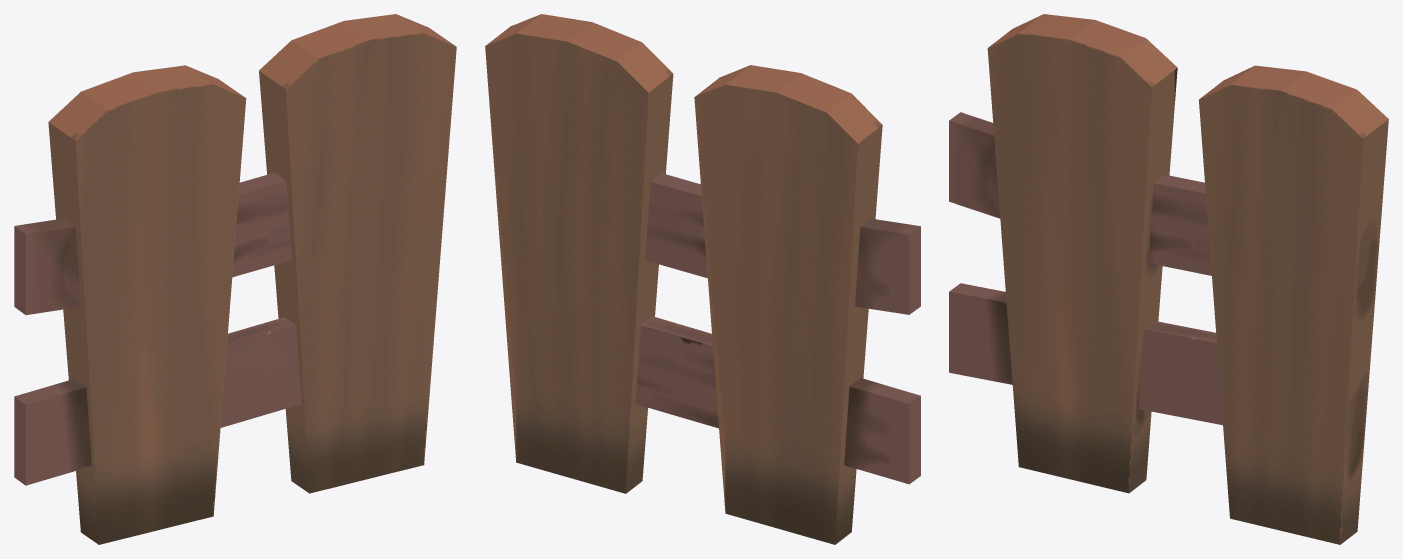
Rendered from fence_end.gltf.
3 views of the same model, side by side, from view 1: azimuth 30°, elevation 25°; view 2: azimuth 150°, elevation 25°; view 3: azimuth 330°, elevation 25° (orthographic).
Parts seen in each view (by area): view 1: FenceEndMesh; view 2: FenceEndMesh; view 3: FenceEndMesh.
Boxes of the visible parts, x1,y1,x2,y2 form: FenceEndMesh: (14,14,456,544); FenceEndMesh: (485,14,920,544); FenceEndMesh: (949,14,1388,544).
Size of what is drawn, in the model's own units: 0.9139 by 0.919 by 0.1103.
1 material, 1 textured.
